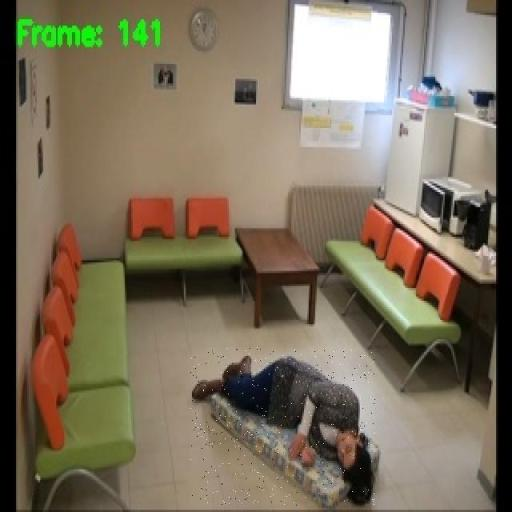Fall: (191, 347, 376, 506)
